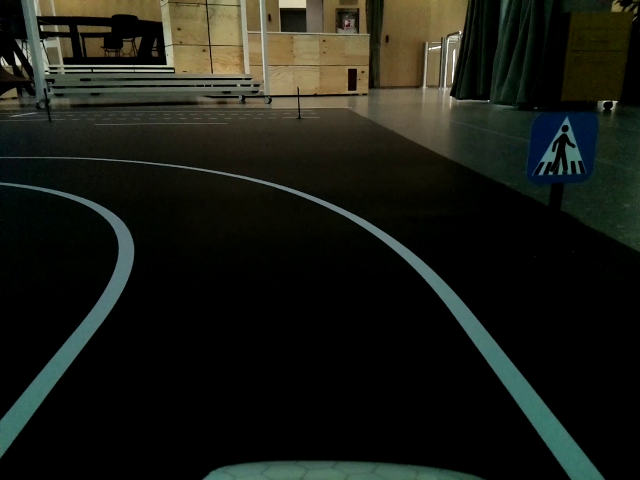pedestrians: (535, 116, 597, 181)
